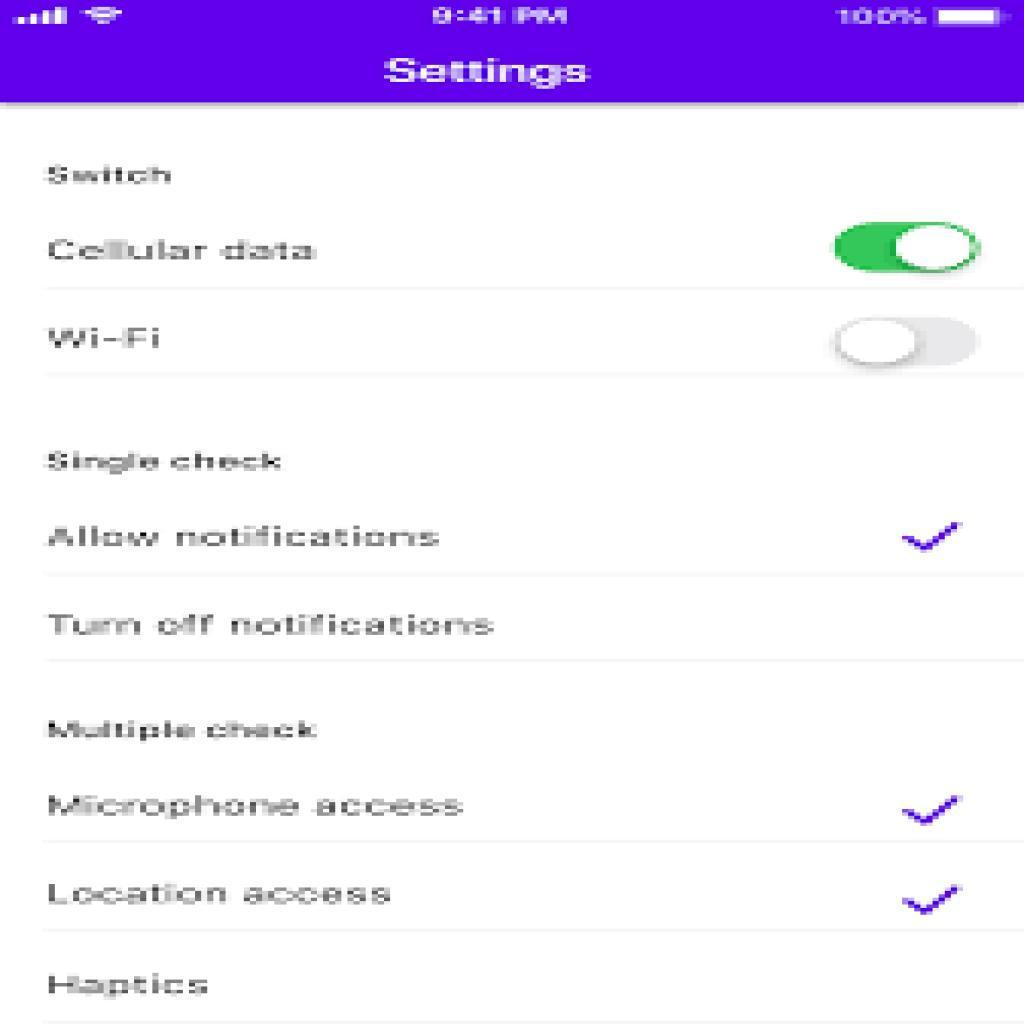icon: (896, 783, 966, 834), (896, 513, 961, 560), (895, 878, 966, 920)
label: (46, 602, 508, 649), (30, 515, 443, 563), (41, 787, 470, 831), (42, 877, 402, 918), (43, 233, 320, 272), (40, 711, 324, 749), (41, 444, 294, 482), (43, 962, 215, 1005), (41, 160, 183, 195), (45, 319, 174, 357)
switch: (835, 219, 980, 280), (833, 315, 982, 369)
